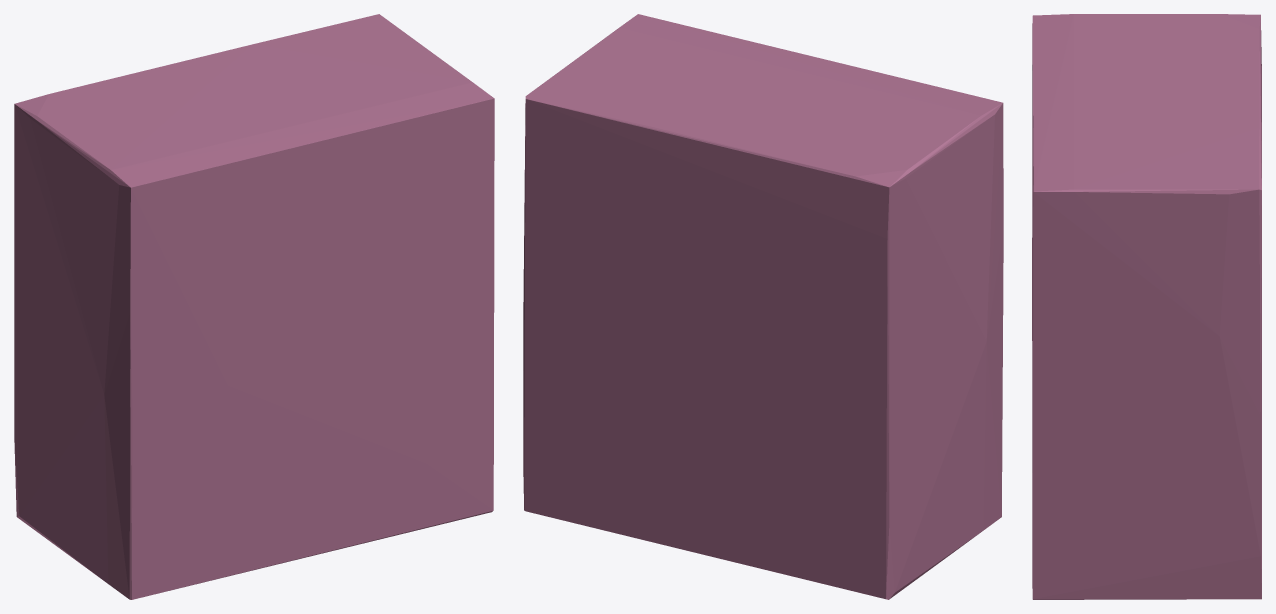
File: box_cardboard_large_b02.glb
3 views of the same model, side by side, from view 1: azimuth 30°, elevation 25°; view 2: azimuth 150°, elevation 25°; view 3: azimuth 270°, elevation 25° (orthographic).
Parts seen in each view (by area): view 1: geometry_0; view 2: geometry_0; view 3: geometry_0.
Boxes of the visible parts, x1,y1,x2,y2 form: geometry_0: [14, 14, 494, 599]; geometry_0: [523, 14, 1003, 599]; geometry_0: [1032, 14, 1261, 599].
Bounding box in the file's own units: 0.4431 × 0.4766 × 0.2395.
